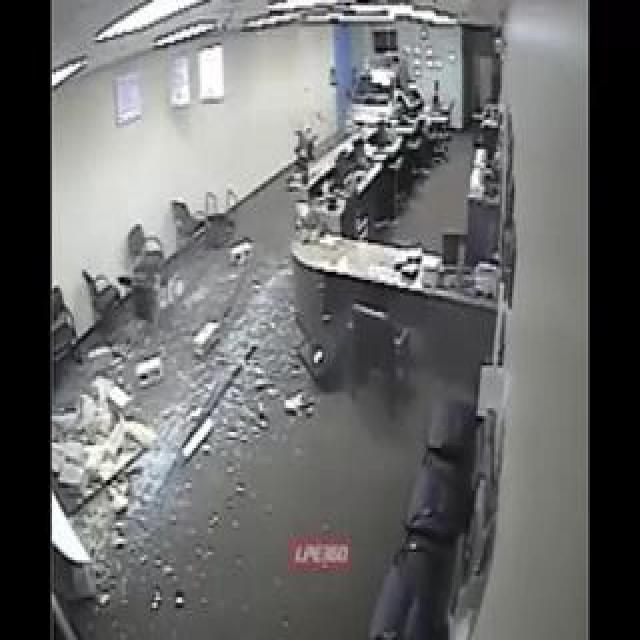burglary: (310, 46, 415, 170)
